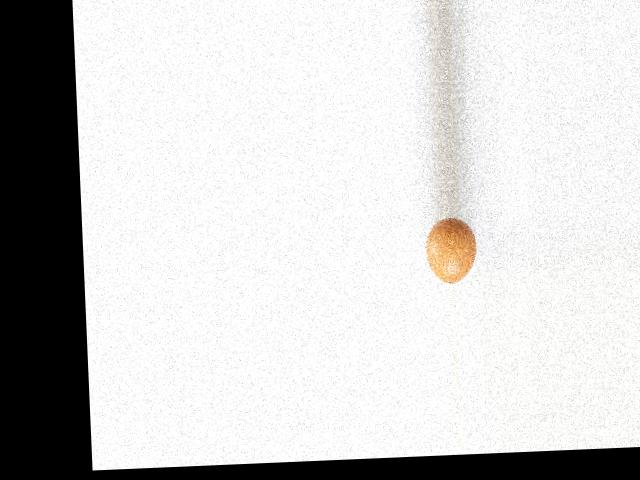egg: (425, 216, 478, 284)
